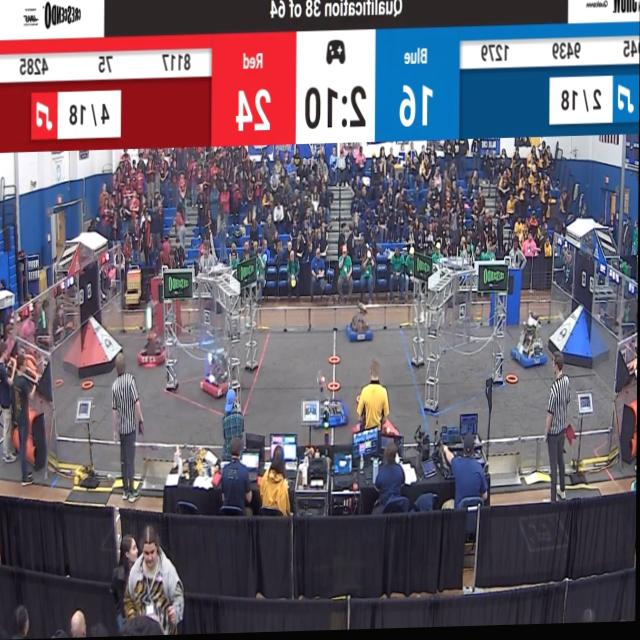Robot: (200, 341, 237, 403), (510, 316, 545, 377), (139, 308, 169, 376), (346, 307, 375, 348)
